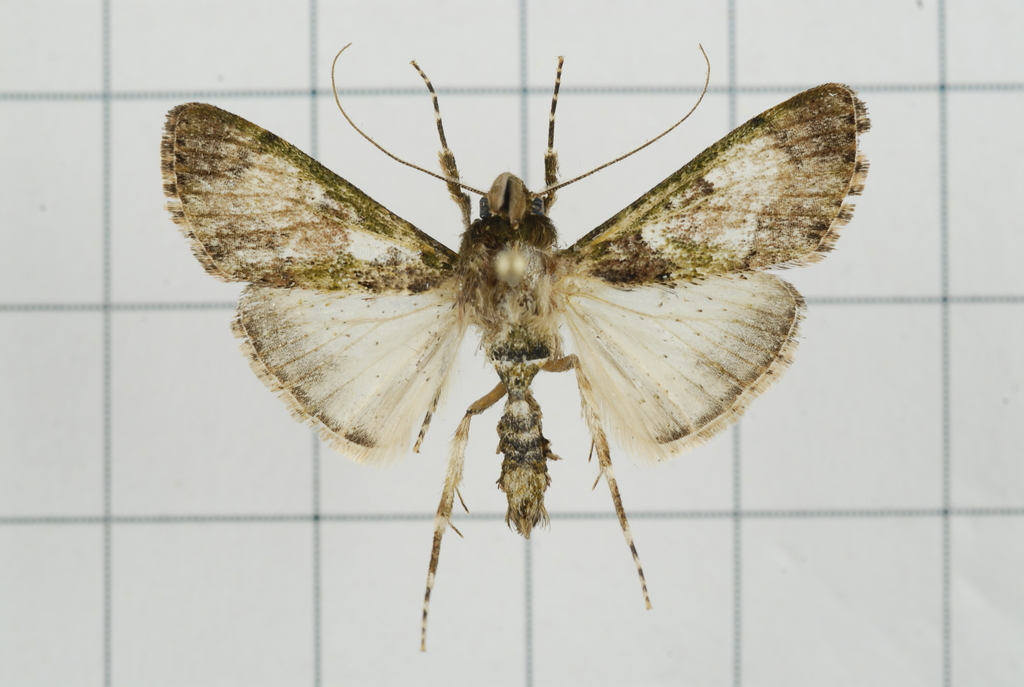Butterfly: (130, 37, 884, 622)
